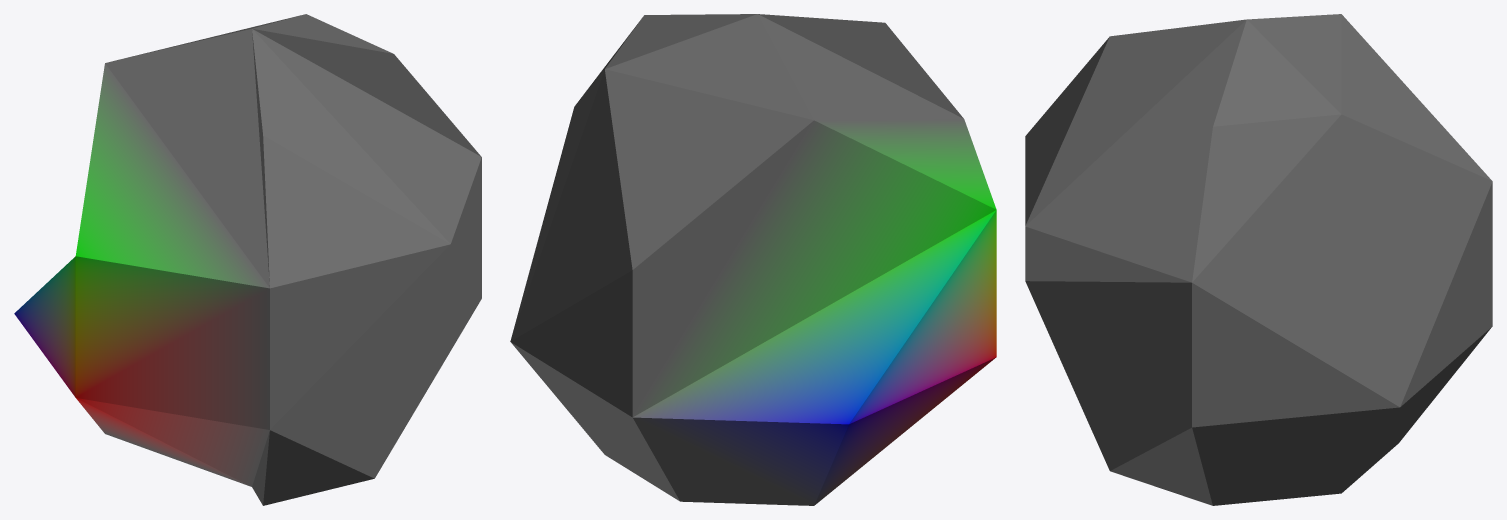
Rendered from decimating_conquest_1_19.obj.
The picture shows the model from 3 angles, left to right: view 1: azimuth 30°, elevation 25°; view 2: azimuth 150°, elevation 25°; view 3: azimuth 270°, elevation 25°; orthographic projection. The views are drawn at different scales.
Size of the model in its own units: 1.85 by 2 by 1.81.
